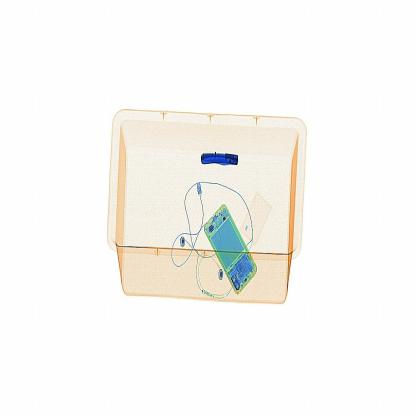knife: (188, 142, 249, 178)
